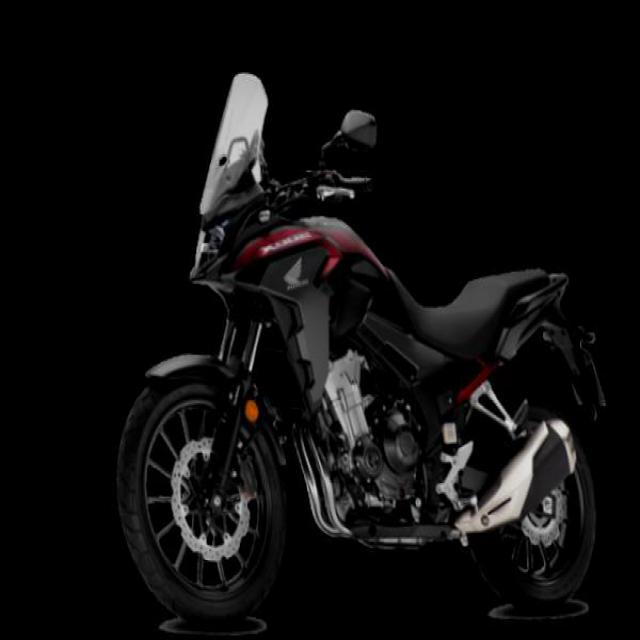CB500X: (77, 21, 608, 639)
